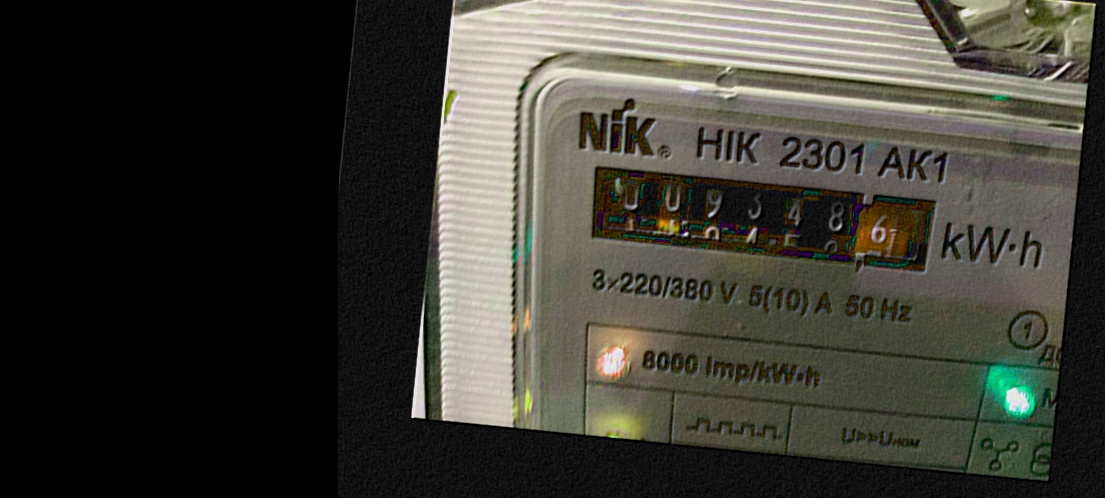0: (661, 178, 686, 216), (620, 176, 644, 212)
3: (743, 187, 768, 221)
4: (783, 191, 807, 230)
6: (868, 209, 894, 245)
8: (825, 197, 849, 233)
9: (704, 183, 725, 218)
screen: (564, 148, 957, 288)
